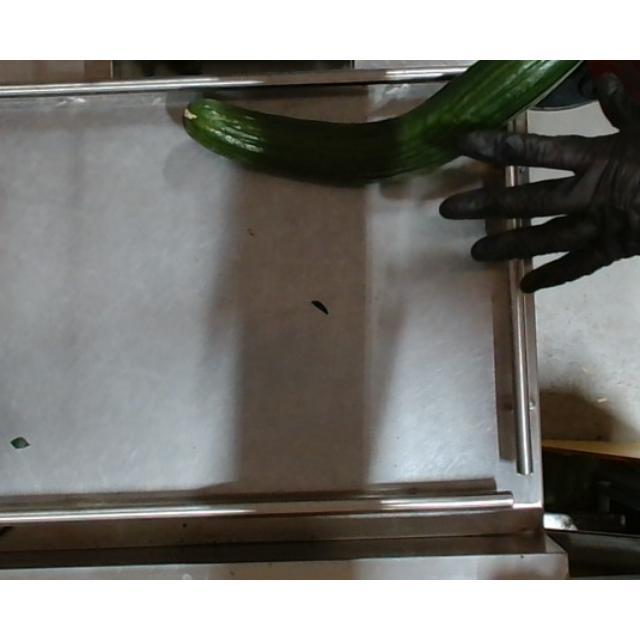cucumber: (182, 60, 584, 188)
